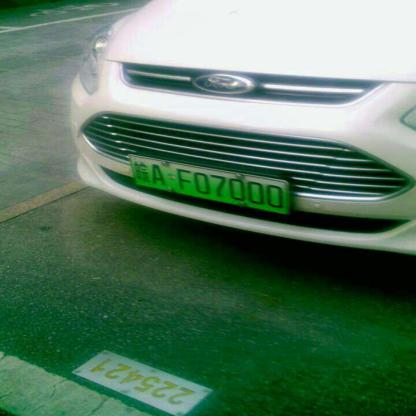lp: (128, 154, 288, 212)
